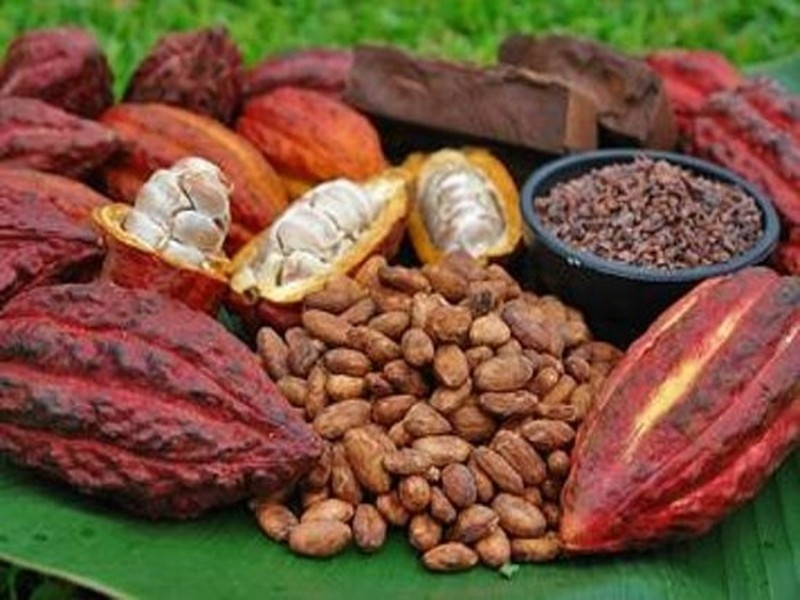Cacaopod: (2, 296, 331, 514), (564, 249, 800, 552)
